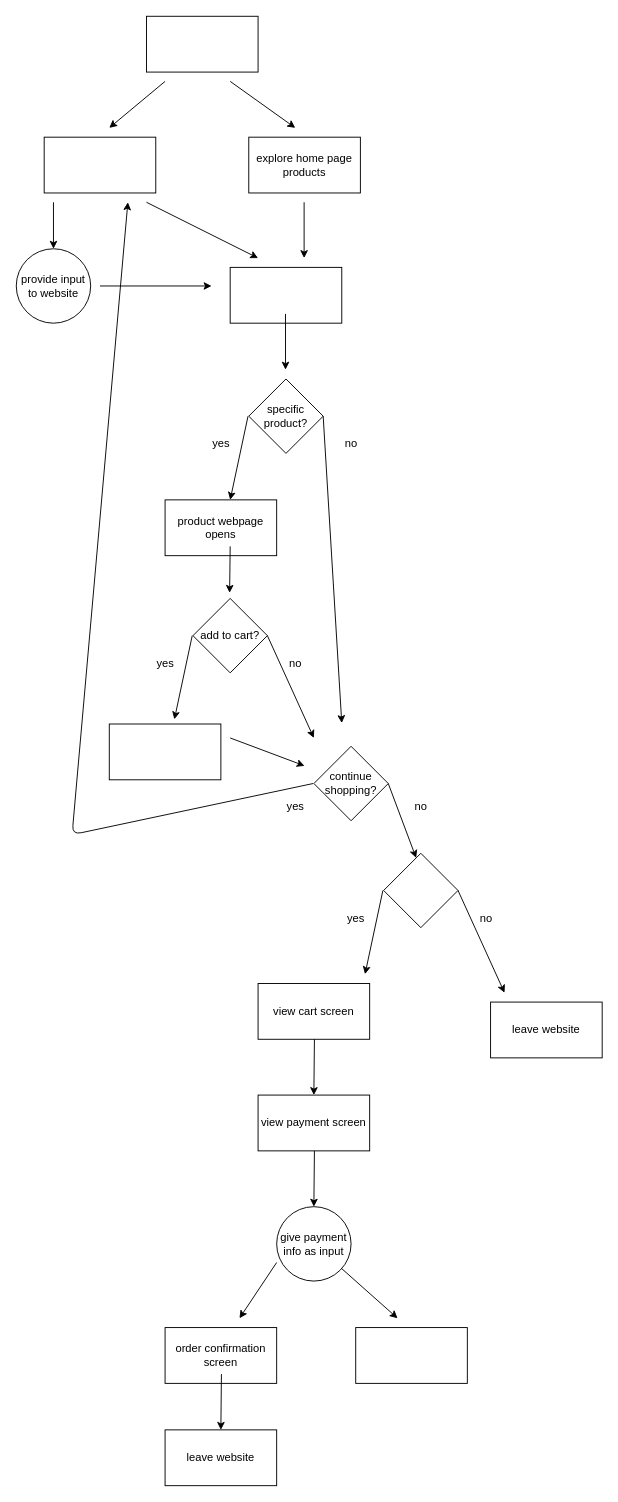
Some shapes in this 618 by 1502 pixel diagram are drawn without their labels. Here are the shapes that lost their labels. From the top down, the centre of each, then its label:
pixel 202 43: Entered website
pixel 99 164: search for product
pixel 285 294: look over products
pixel 164 751: added to cart confirmation
pixel 420 890: checkout?
pixel 411 1355: email received
